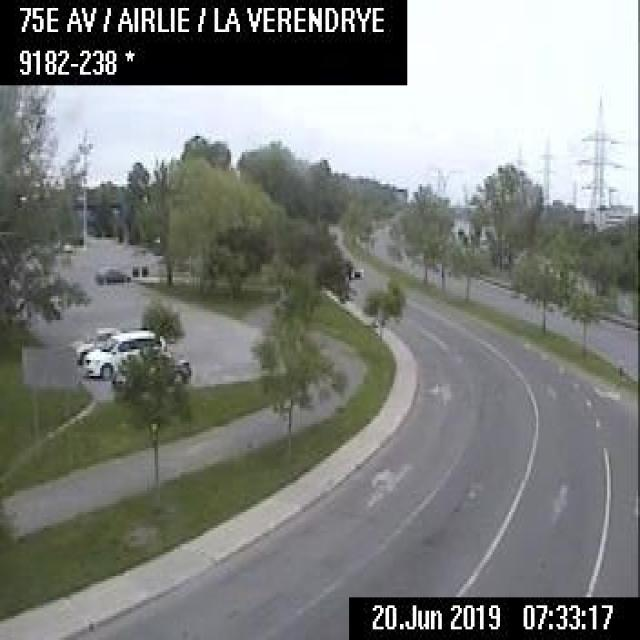vehicle: (84, 329, 165, 378), (112, 355, 190, 385), (74, 324, 120, 362), (95, 263, 129, 283), (348, 264, 364, 278)
